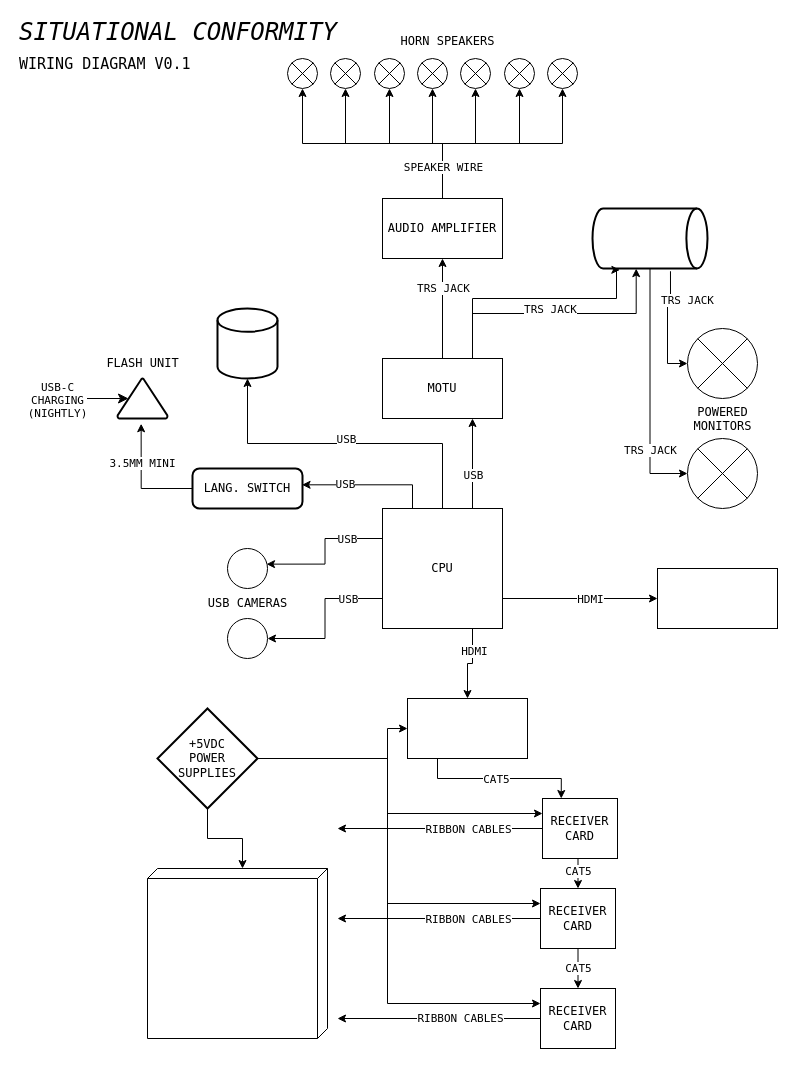
This 795x1066 diagram has some shape labels left out. The shapes that lost their labels are listed below. From the top down, each one's centre as x and y in pixels, then its label:
the point at 649,238: SUBWOOFER
the point at 247,343: GIMBAL CAM
the point at 717,598: INTERFACE MONITOR
the point at 467,728: NOVASTAR SENDER
the point at 237,953: LED PANEL ARRAY
